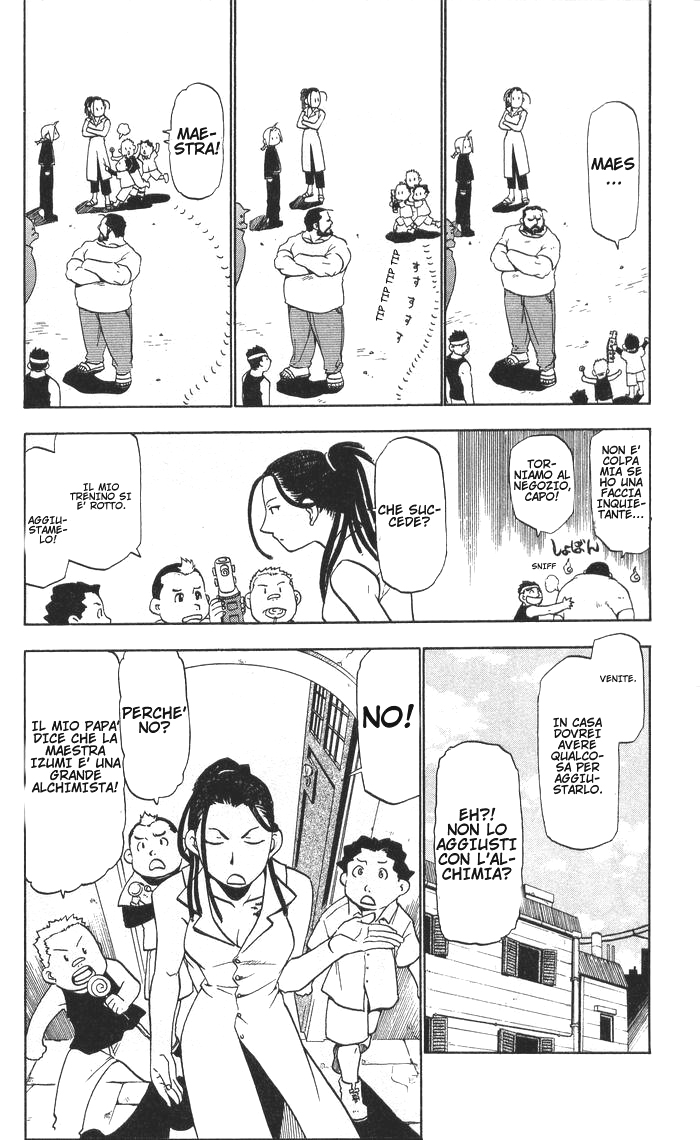Baloon: (24, 651, 128, 896), (538, 632, 643, 846), (24, 428, 138, 587), (434, 742, 521, 946), (115, 649, 188, 802), (378, 435, 447, 594), (359, 649, 421, 801), (586, 102, 638, 246), (164, 83, 224, 201), (593, 433, 650, 554), (507, 435, 572, 537)
Vignetta: (22, 649, 422, 1140), (24, 423, 652, 625), (422, 647, 652, 1051), (24, 1, 231, 409), (240, 1, 443, 404), (449, 1, 650, 402)
